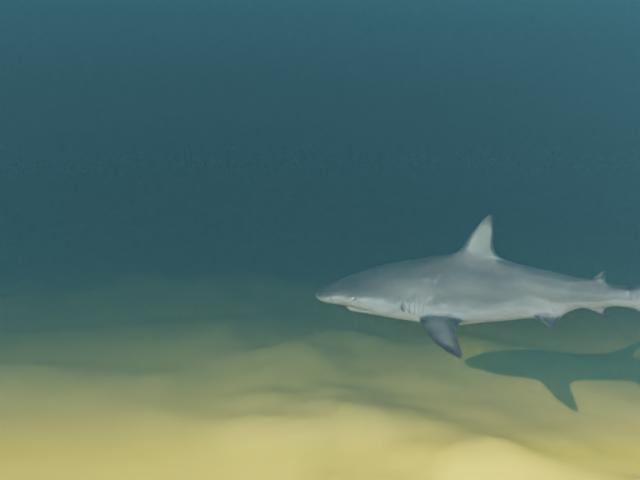Carribean Shark.001: (315, 214, 640, 358)
